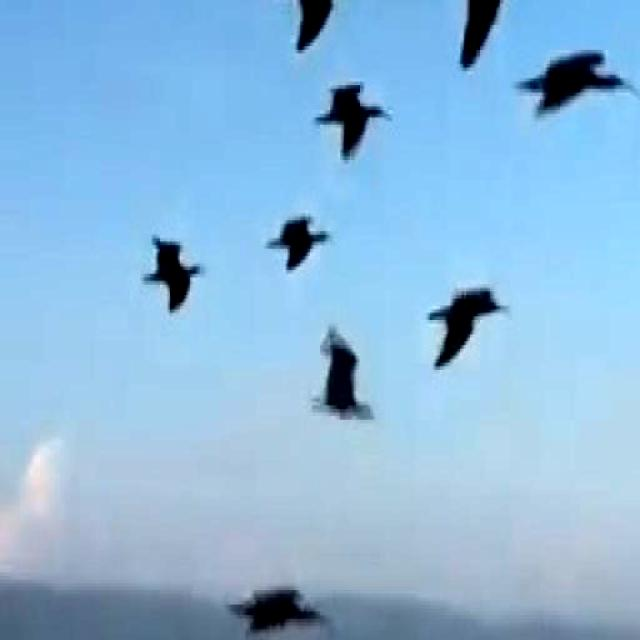airplane: (442, 0, 559, 88), (528, 30, 625, 120), (139, 211, 205, 334), (430, 268, 501, 381), (314, 312, 370, 439), (230, 572, 325, 640), (316, 72, 385, 164), (269, 205, 330, 272), (276, 0, 358, 35)
